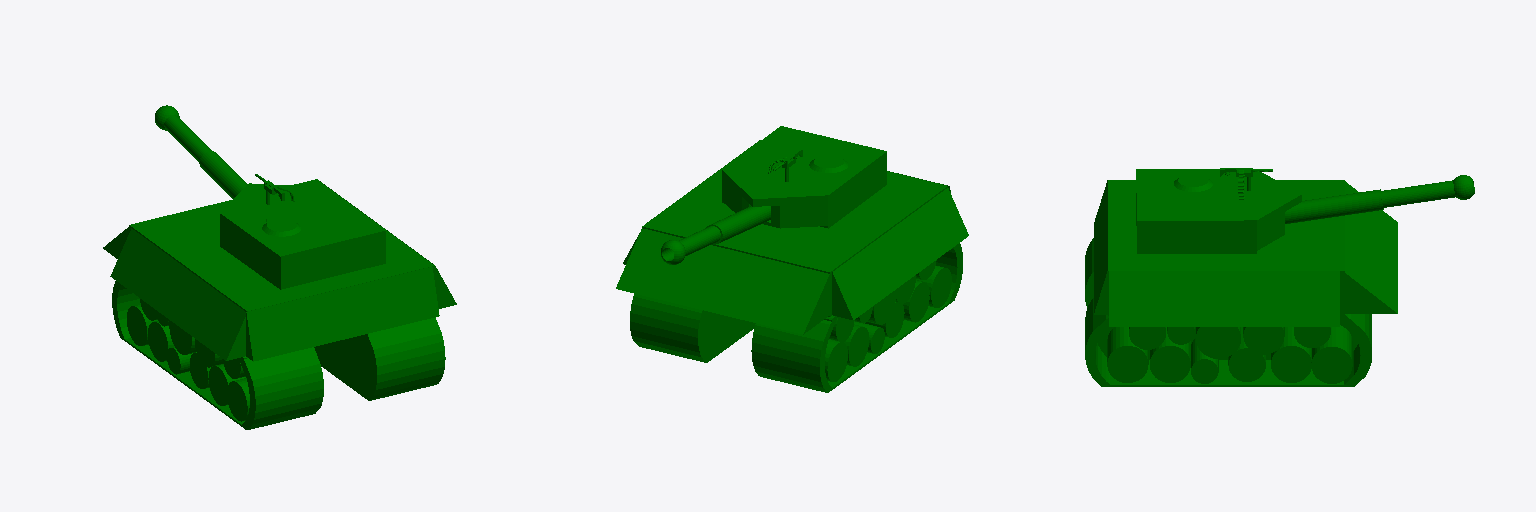
The model's file is tank.obj.
The picture shows the model from 3 angles: view 1: azimuth 30°, elevation 25°; view 2: azimuth 150°, elevation 25°; view 3: azimuth 270°, elevation 25°; orthographic projection.
Parts seen in each view (by area): view 1: tank; view 2: tank; view 3: tank.
Boxes of the visible parts, <box> form: tank: <box>103,105,456,429</box>; tank: <box>616,126,968,392</box>; tank: <box>1085,168,1474,386</box>.
Bounding box in the file's own units: 67.71 × 48 × 99.02.